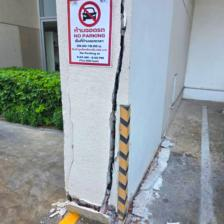High: (61, 1, 124, 223)
